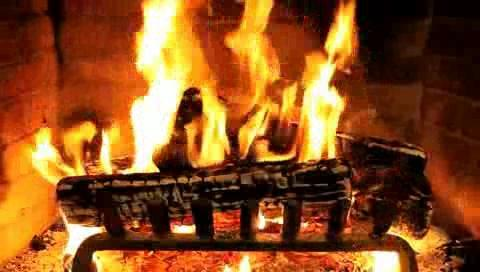fire: (115, 4, 357, 177)
